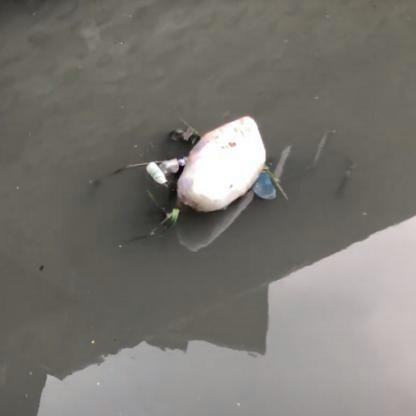Plastic: (144, 158, 168, 190)
Trash: (171, 100, 280, 223)
